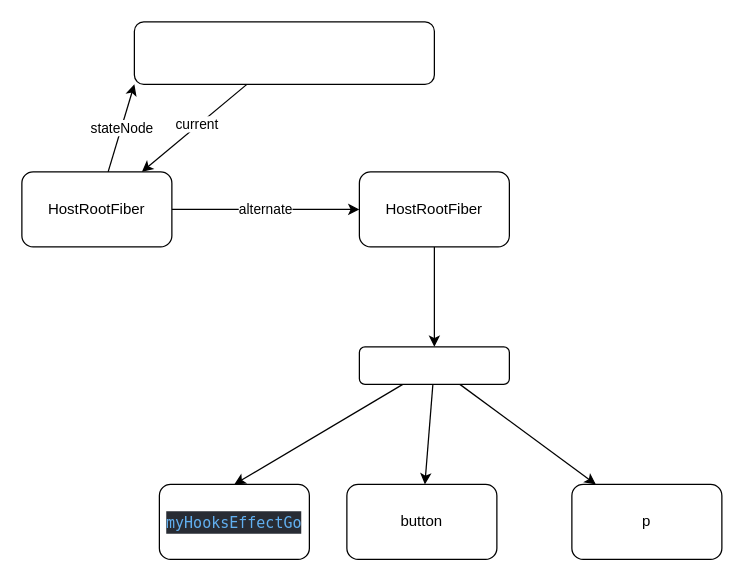
Image size: 744x581. Some labels were removed from this diagram. The centre of each missing label's shape, as x and y in pixels:
App: the point at 433,365
FiberRootNode: the point at 283,52
